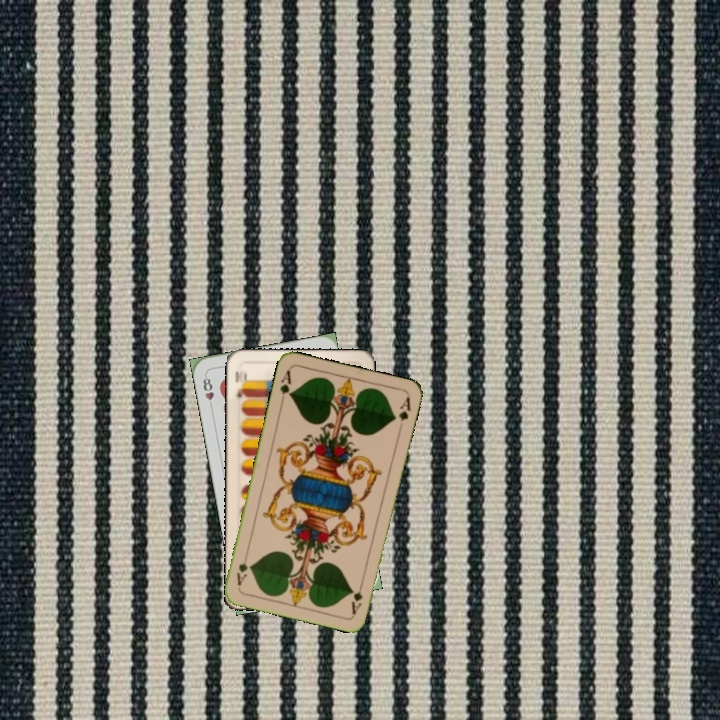E10: (231, 367, 249, 400)
GA: (347, 577, 366, 617), (276, 366, 294, 406)
H8: (199, 371, 217, 412)
